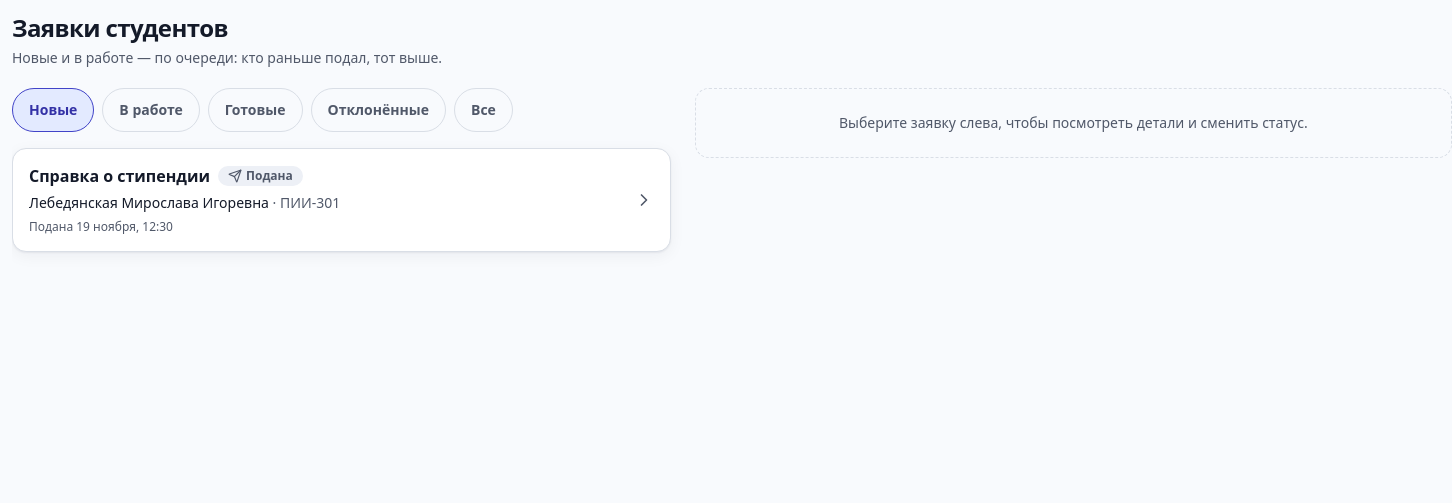
Test: StaffPage › фильтр «Все» — вся очередь, активные сверху
Check: the link "Справка о стипендии" is shown, box [12,148,671,252]
Click the link "Все" at [483, 110], box [454,88,513,132]
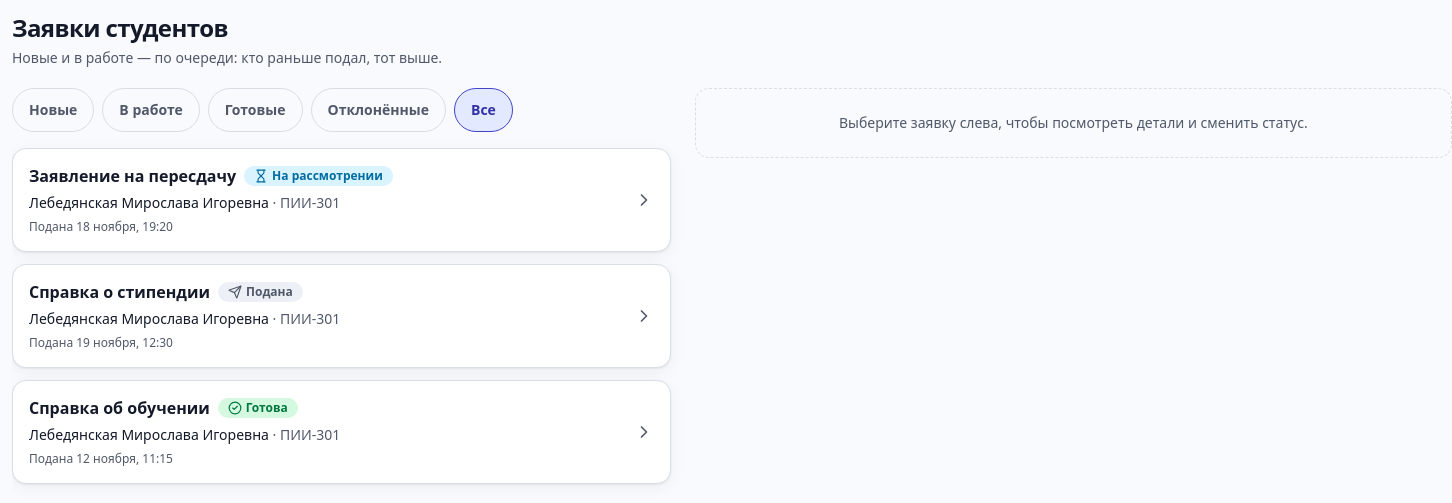
Check: the link "Справка об обучении" is shown, box [12,380,671,484]
